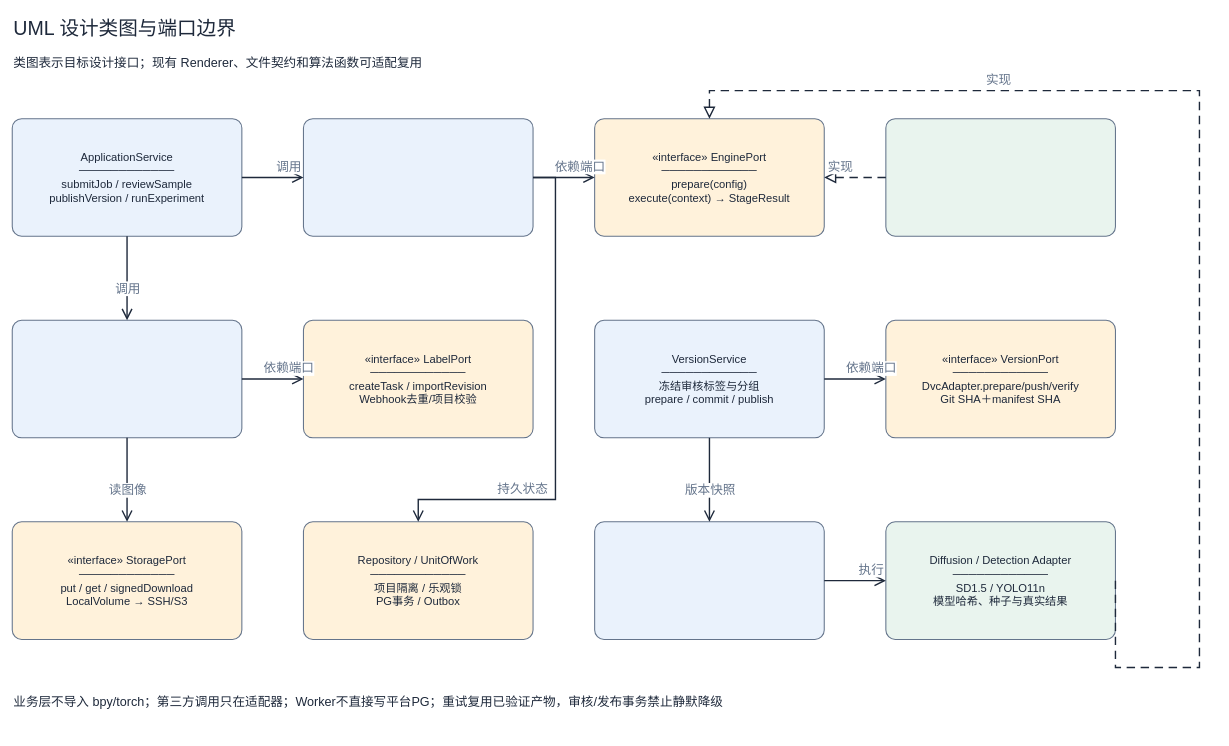
Some shapes in this 1229 by 746 pixel diagram are drawn without their labels. Here are the shapes that lost their labels. From the top down, the centre of each, then its label:
At pixel 418 177: "JobOrchestrator ──────────── claimLease / heartbeat retry / cancel / checkpoint".
At pixel 1000 177: "FdsAdapter / BlenderAdapter ──────────── 参数校验 / 子进程超时 文件清单与物理代理说明".
At pixel 126 378: "ReviewService ──────────── imageSHA + annotationRevision 人工修订 / 冲突检测".
At pixel 709 580: "EvaluationService ──────────── FID / 物理误差 / YOLO对照 版本、预算与参照快照".
